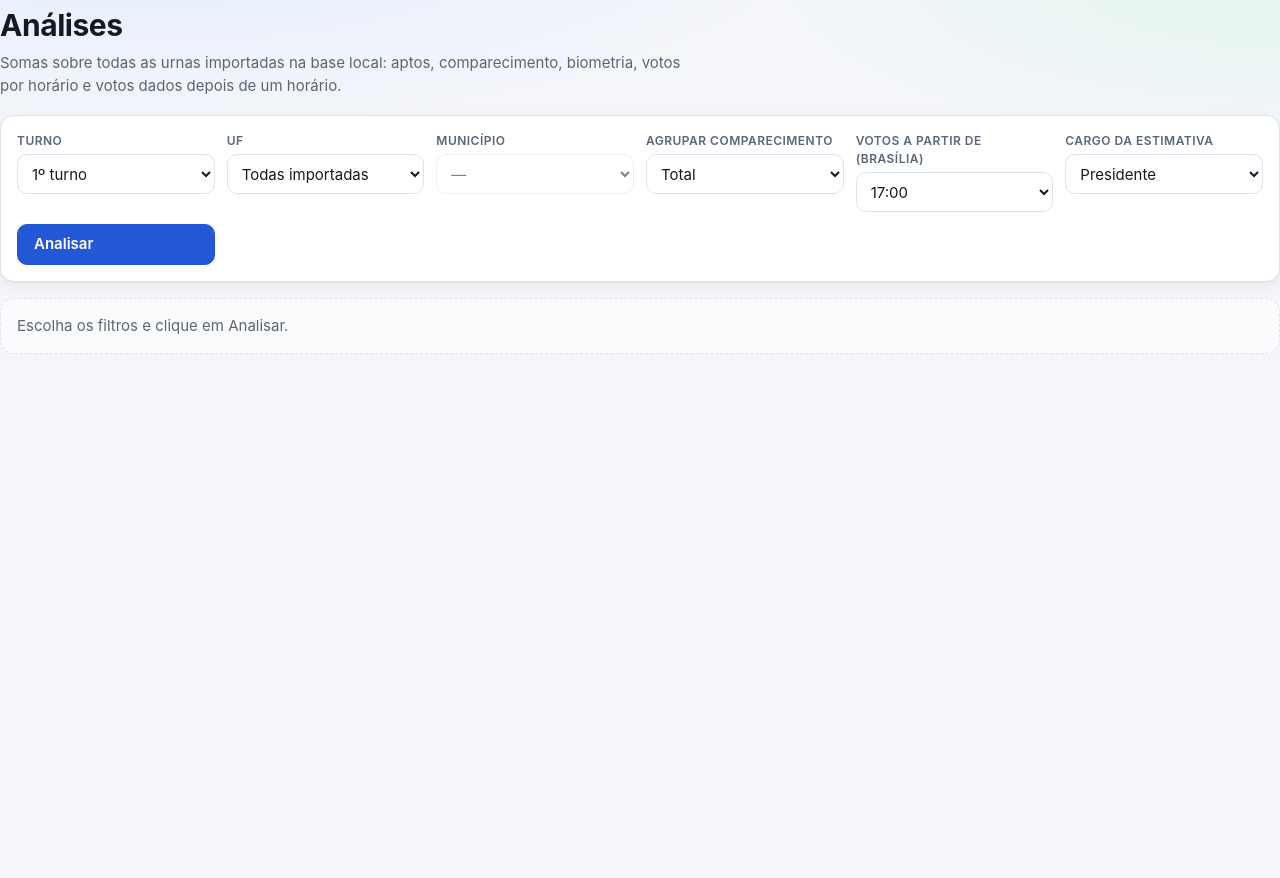
Scenario: AnalysisPage › consulta comparecimento, horários e votos após 17h
The width and height of the screenshot is (1280, 878).
Click the button "Analisar".
click(116, 244)  # box x1=17 y1=224 x2=215 y2=264
(page scrolled)
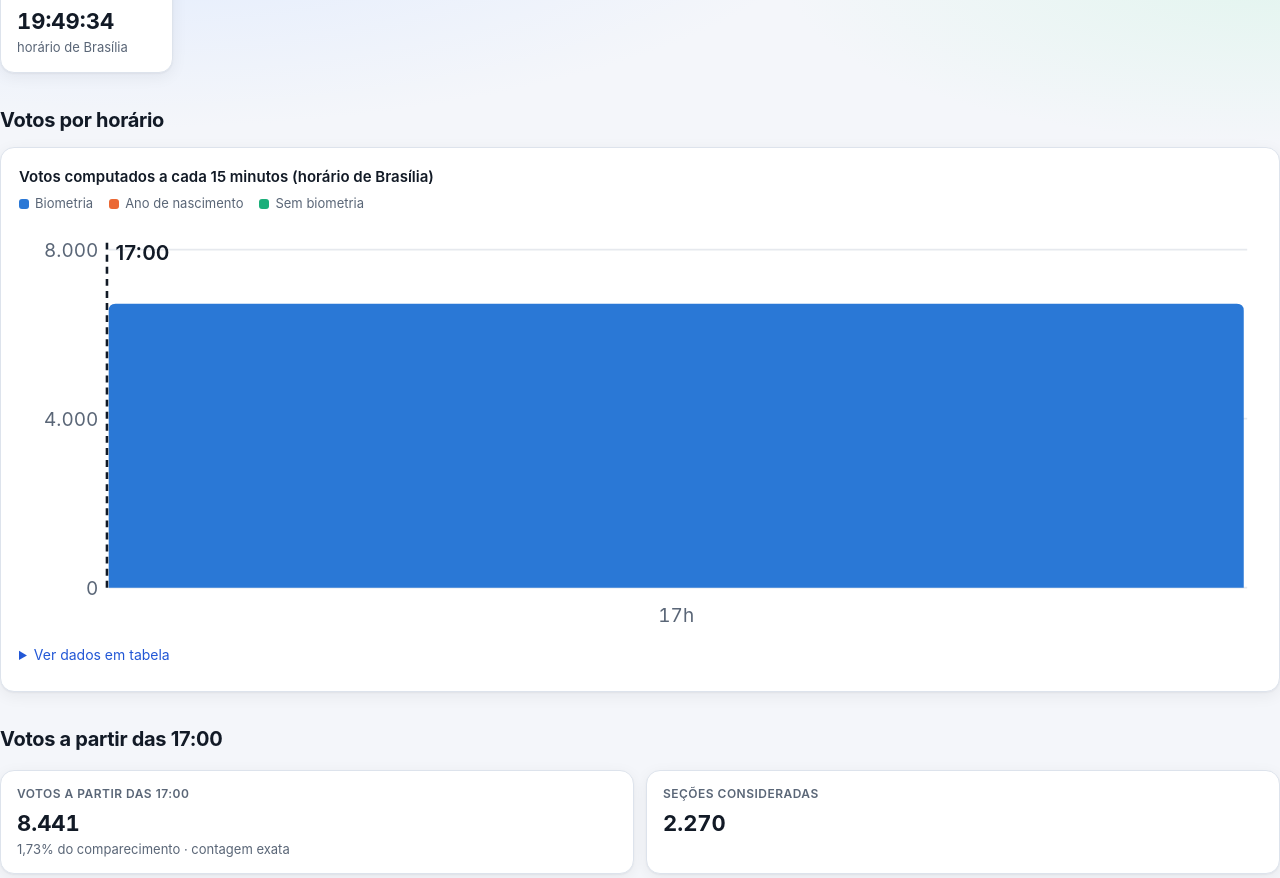
Now the text "8.441" is shown, box x1=17 y1=810 x2=80 y2=836
Now the picture named "a cada 15 minutos" is shown, box x1=19 y1=222 x2=1261 y2=636
